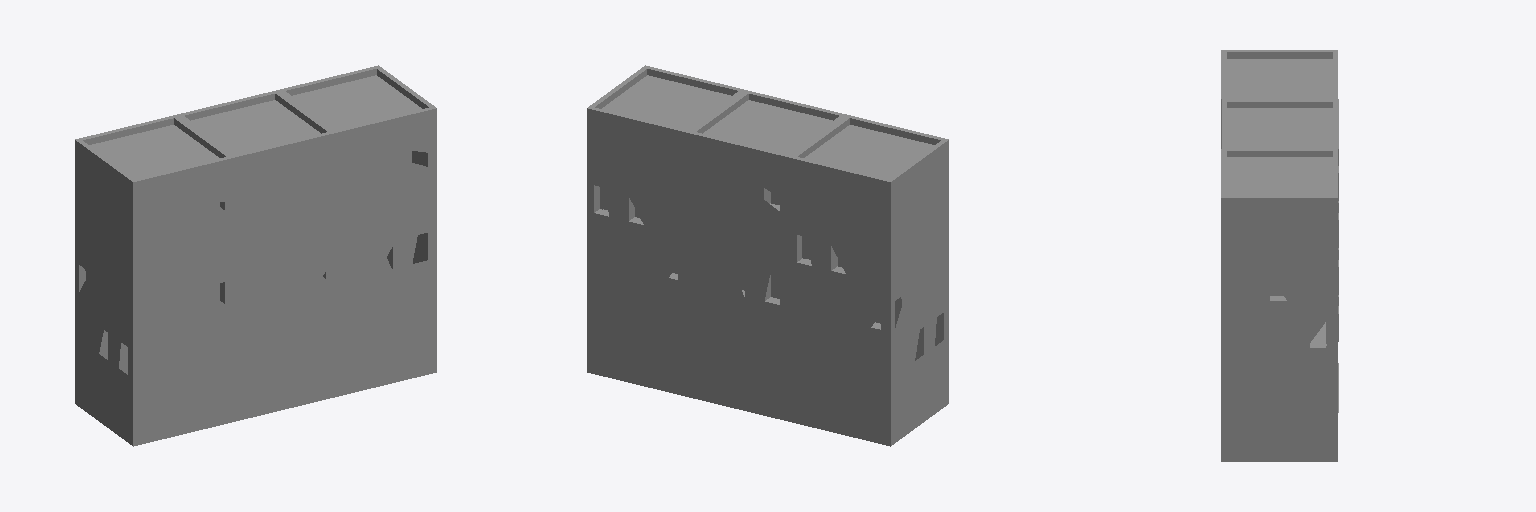
The model's file is zdi.obj.
3 renders of one model, left to right at view 1: azimuth 30°, elevation 25°; view 2: azimuth 150°, elevation 25°; view 3: azimuth 270°, elevation 25°, orthographic.
Visible parts, largest first — view 1: building3_zdi_building_3_Cube.016; view 2: building3_zdi_building_3_Cube.016; view 3: building3_zdi_building_3_Cube.016.
Part boxes in pixels (x1,y1,x2,y2): building3_zdi_building_3_Cube.016: (75, 65, 436, 446); building3_zdi_building_3_Cube.016: (587, 65, 948, 446); building3_zdi_building_3_Cube.016: (1221, 50, 1338, 461).
Size of the model in its own units: 17.08 by 14.19 by 5.7.